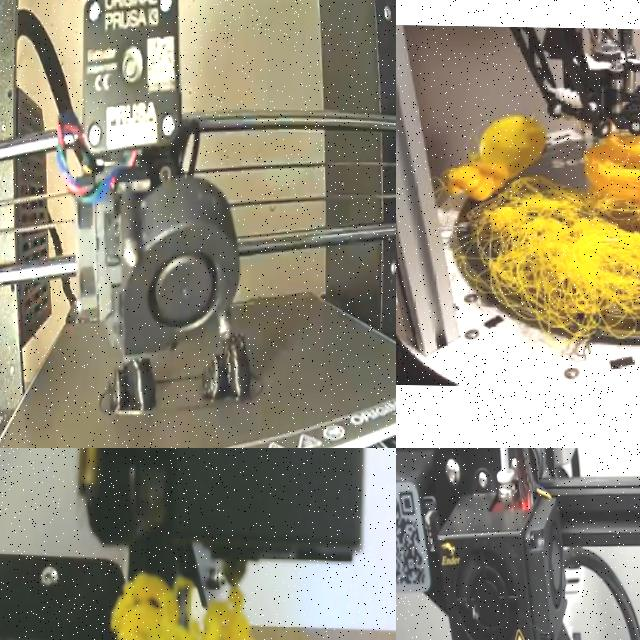spaghetti: (484, 190, 640, 329), (111, 572, 254, 640)
